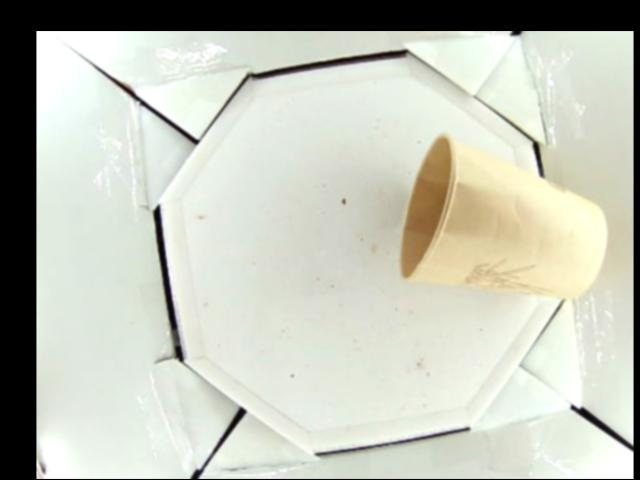Cup: (401, 131, 606, 296)
